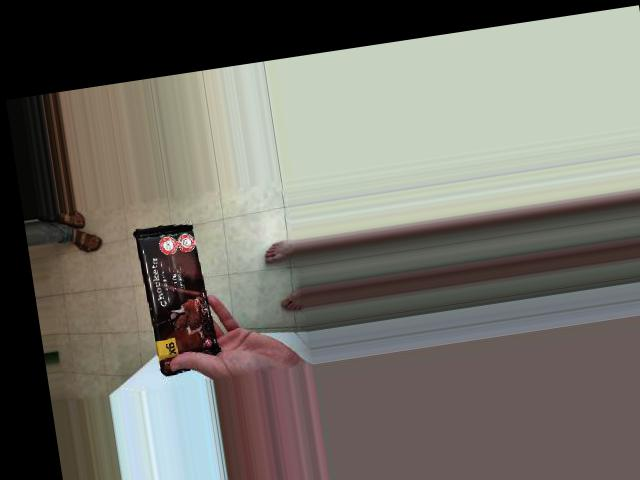chocolate: (61, 201, 228, 313)
